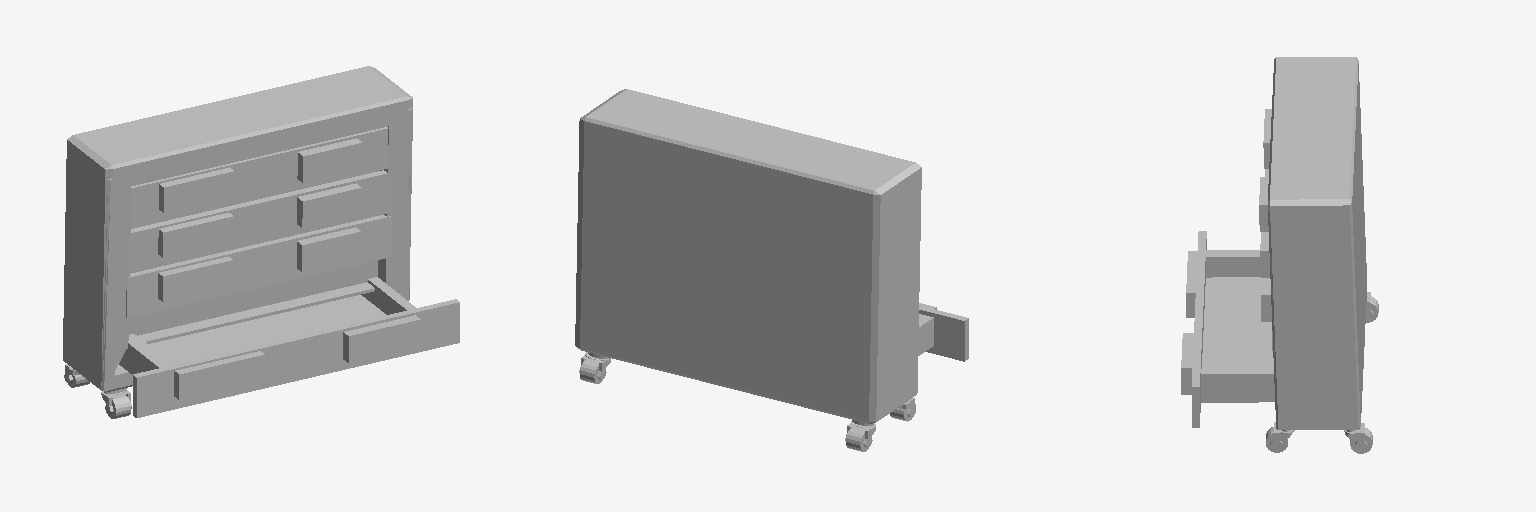
The model's file is toolchest 2.obj.
The picture shows the model from 3 angles: view 1: azimuth 30°, elevation 25°; view 2: azimuth 150°, elevation 25°; view 3: azimuth 270°, elevation 25°; orthographic projection.
Parts seen in each view (by area): view 1: Box261, Box262, Box263, Box264, Box265, Box260; view 2: Box261, Box262, Box260; view 3: Box261, Box260, Box262, Box265.
Boxes of the visible parts, box(x1,y1,x2,y2) form: Box261: box(63, 66, 412, 391); Box262: box(133, 299, 459, 417); Box263: box(126, 215, 392, 318); Box264: box(127, 170, 392, 273); Box265: box(131, 127, 388, 228); Box260: box(119, 277, 415, 374); Box261: box(575, 89, 921, 423); Box262: box(919, 303, 968, 361); Box260: box(918, 314, 933, 355); Box261: box(1268, 57, 1366, 429); Box260: box(1201, 250, 1274, 402); Box262: box(1181, 231, 1206, 427); Box265: box(1259, 109, 1271, 231).
Size of the model in its own units: 113 by 86.44 by 60.25.